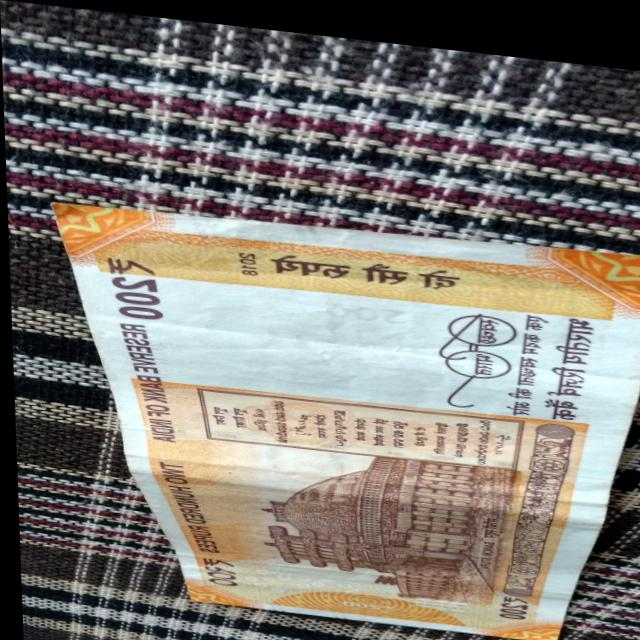Currency: (38, 196, 603, 640)
